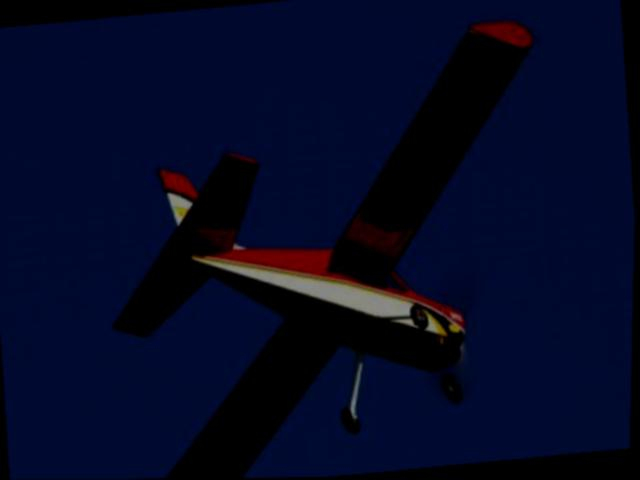uav: (85, 10, 576, 479)
